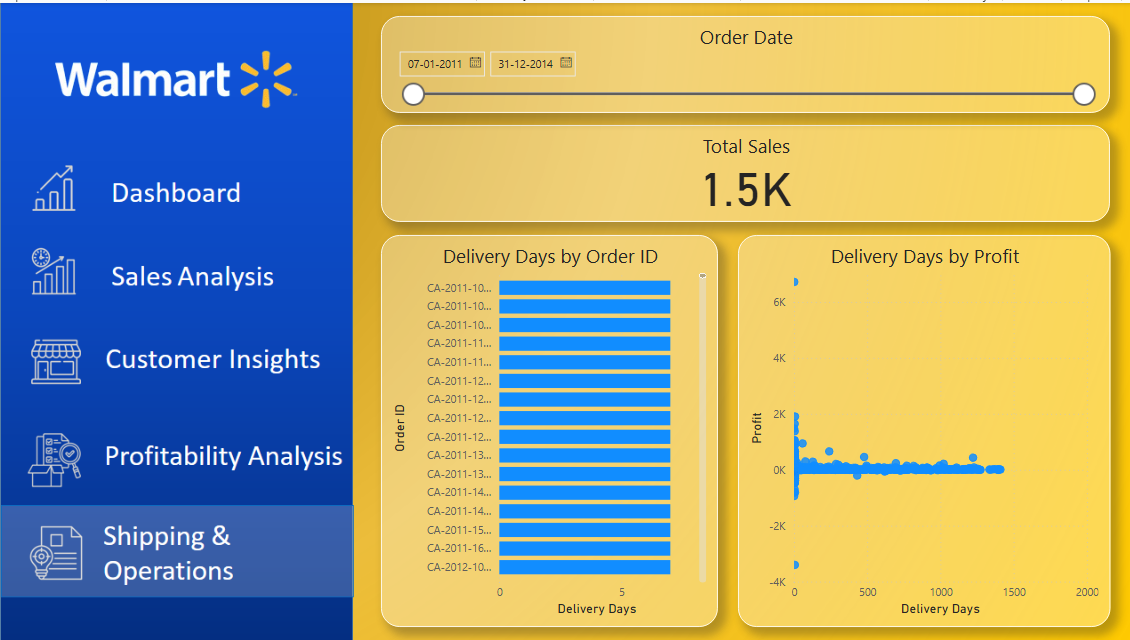

Layout of this report page (visuals, bound fields, positions):
{"tool":"powerbi","page":{"name":"Shipping and Operation","canvas":[1280,720],"ordinal":4},"visuals":[{"type":"shape","box":[1.1,564.6,396.8,104.3],"z":6000},{"type":"actionButton","box":[0,261.4,392.9,85.7],"z":7000},{"type":"actionButton","box":[1.4,157.1,392.9,98.6],"z":8000},{"type":"actionButton","box":[0,347.1,392.9,100],"z":9000},{"type":"actionButton","box":[0,464.3,392.9,100],"z":10000},{"type":"actionButton","box":[4.5,564.6,393.4,99.8],"z":11000},{"type":"card","title":"Total Sales","fields":{"Values":["Walmart.Delivery Days"]},"box":[428.6,137.2,820.1,109.1],"z":11001},{"type":"barChart","fields":{"Y":["Walmart.Delivery Days"],"Category":["Walmart.Order ID"]},"box":[428.6,261,379.1,441],"z":11002},{"type":"scatterChart","fields":{"X":["Walmart.Delivery Days"],"Y":["Walmart.Profit"]},"box":[830.2,261,418.5,441],"z":11003},{"type":"slicer","title":"Order Date","fields":{"Values":["Walmart.Order Date"]},"box":[428.6,14.6,820.1,109.1],"z":11004}]}

Visuals, with their boxes in screenshot pixels (x1, y1, x2, y2), scaled from the page's 1280x720 canvas onto the 1130x640 screenshot:
shape: (x1=1, y1=502, x2=351, y2=595)
actionButton: (x1=0, y1=232, x2=347, y2=309)
actionButton: (x1=1, y1=140, x2=348, y2=227)
actionButton: (x1=0, y1=309, x2=347, y2=397)
actionButton: (x1=0, y1=413, x2=347, y2=502)
actionButton: (x1=4, y1=502, x2=351, y2=591)
"Total Sales" card: (x1=378, y1=122, x2=1102, y2=219)
barChart - Walmart.Delivery Days x Walmart.Order ID: (x1=378, y1=232, x2=713, y2=624)
scatterChart - Walmart.Delivery Days x Walmart.Profit: (x1=733, y1=232, x2=1102, y2=624)
"Order Date" slicer: (x1=378, y1=13, x2=1102, y2=110)
